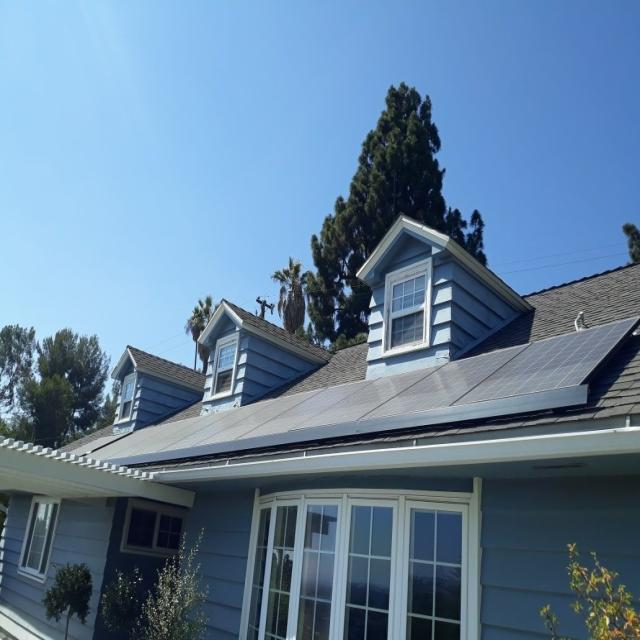dust-solar-panel: (116, 317, 638, 462)
